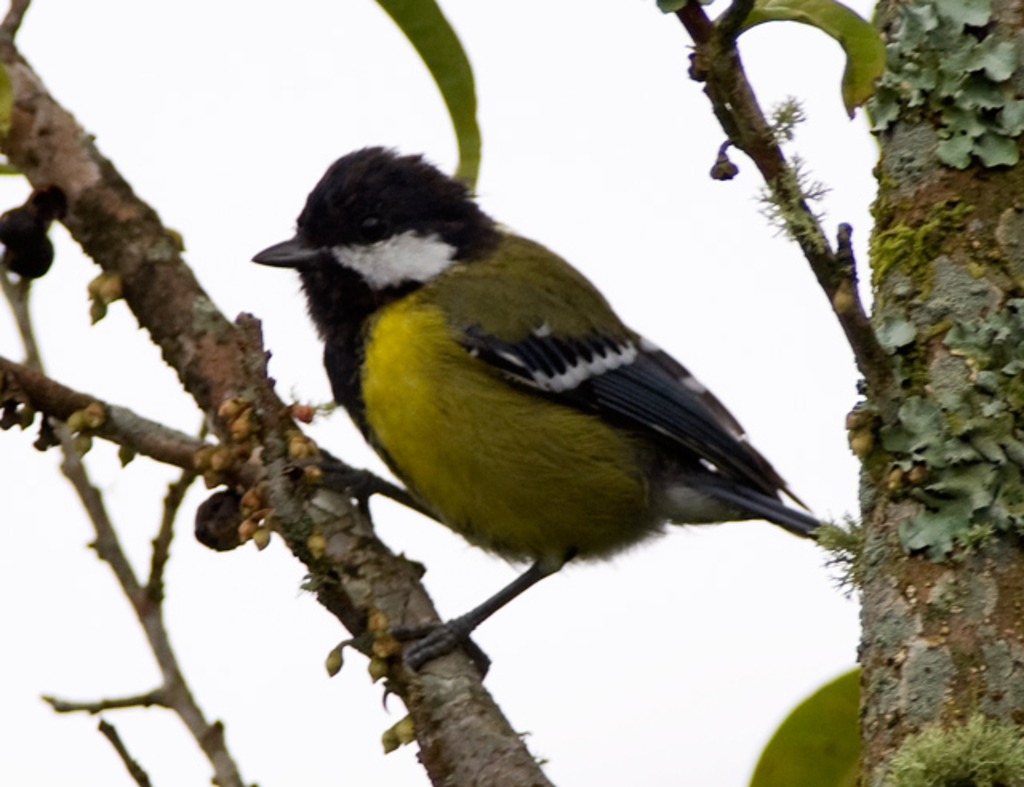Bird: (250, 144, 860, 714)
